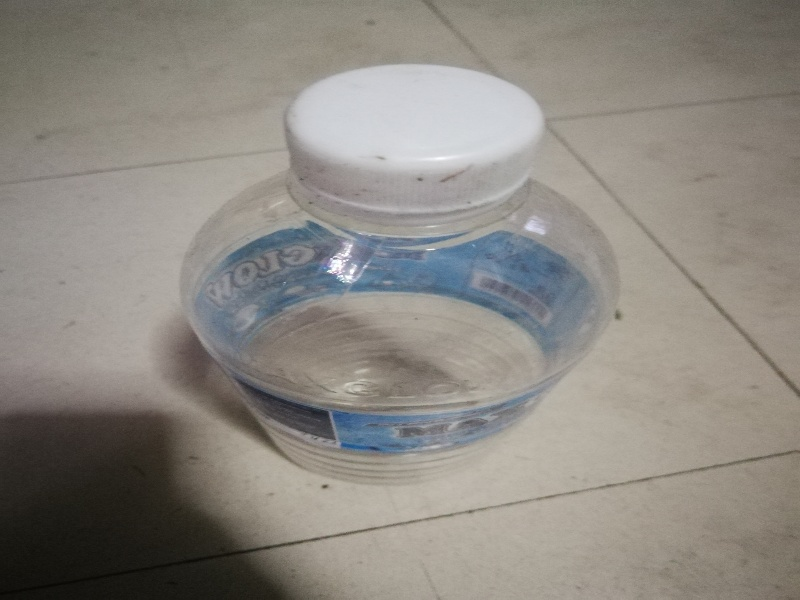PET #1: (164, 62, 624, 488)
